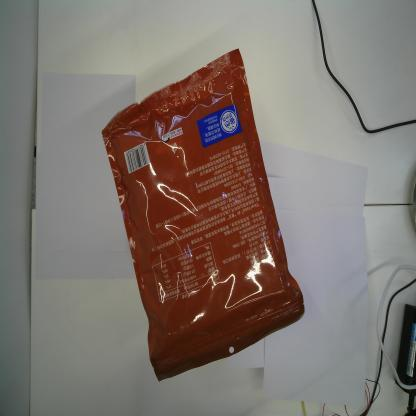Dried Food: (100, 46, 306, 384)
